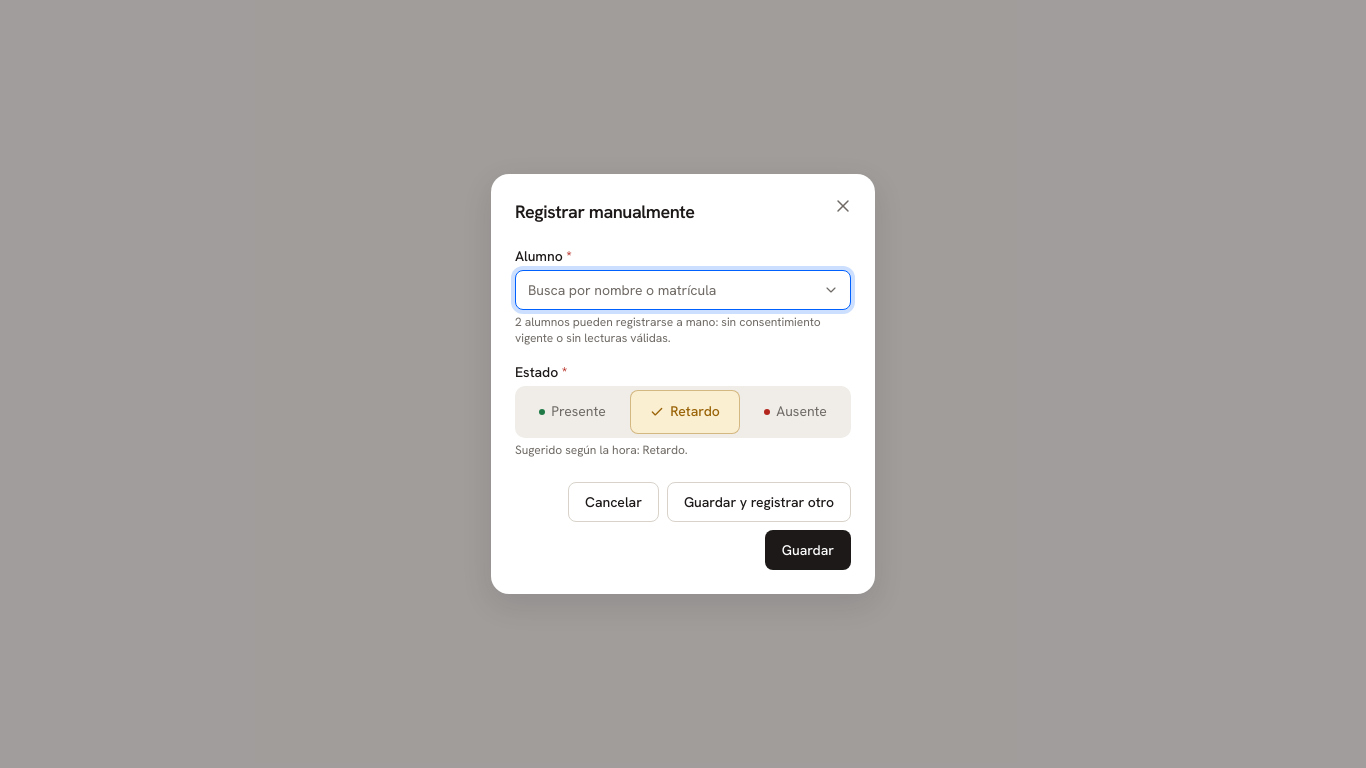
RegistroManualDialog › si el servidor rechaza, el error queda dentro del diálogo y se conserva lo elegido
Click the dropdown labelled "Alumno *" at (683, 290), box [515,270,851,310]
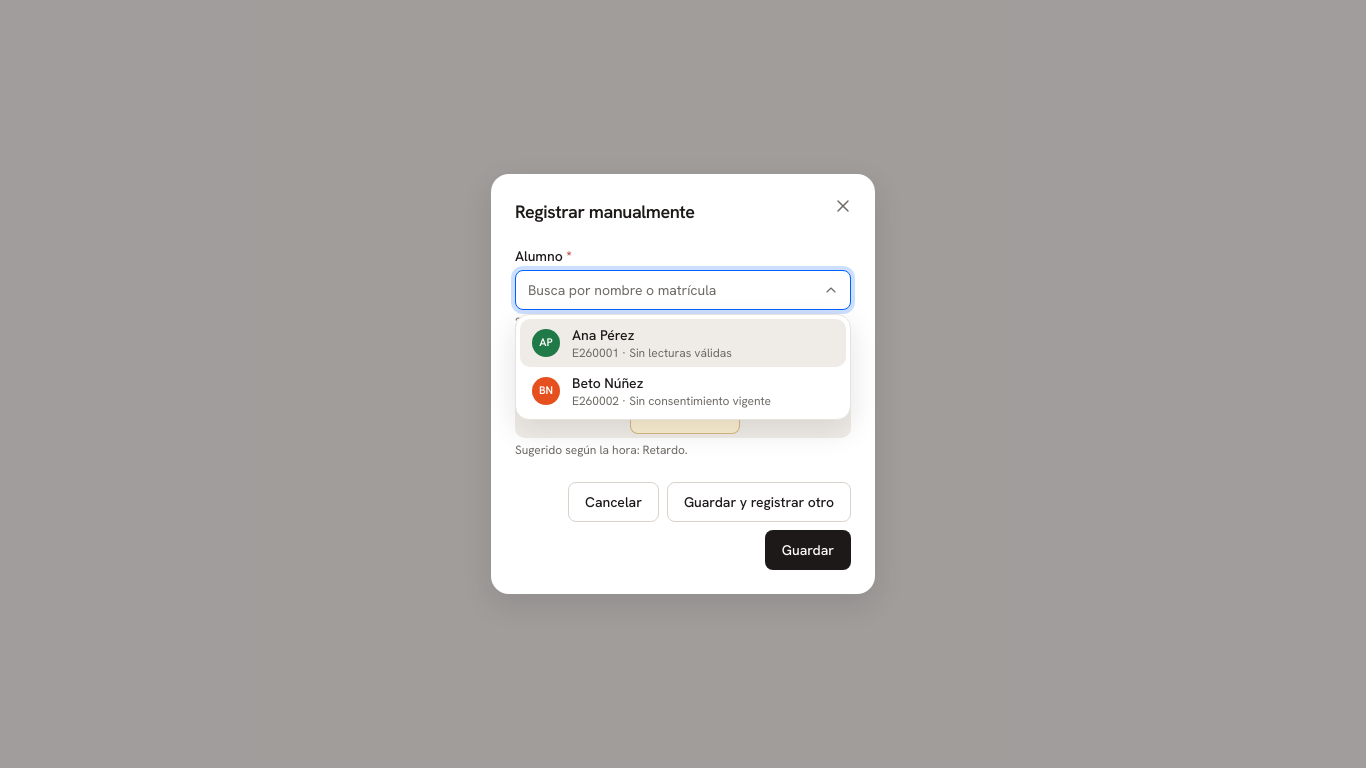
Click the option "AP Ana Pérez E260001 · Sin lecturas válidas" at (683, 343), box [520,319,846,367]
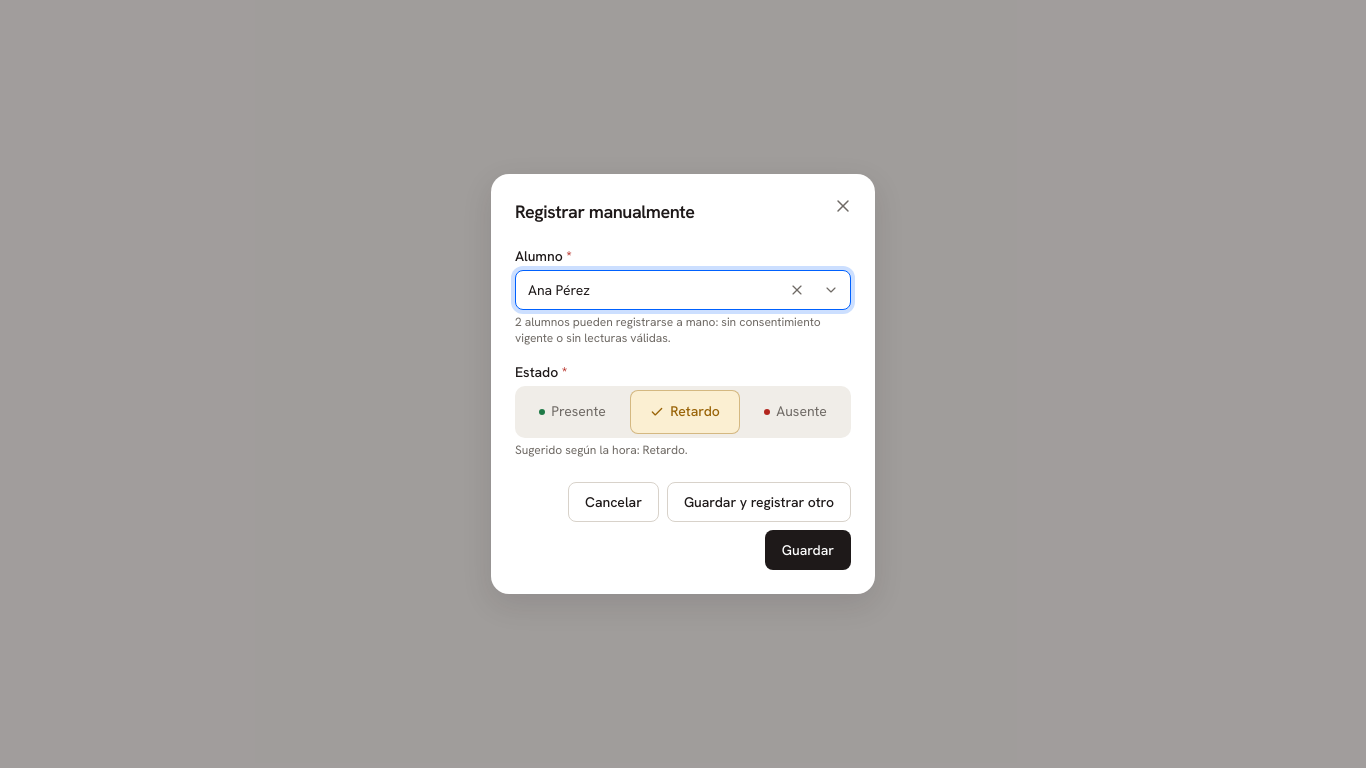
Click the button "Guardar" at (808, 550), box [765,530,851,570]
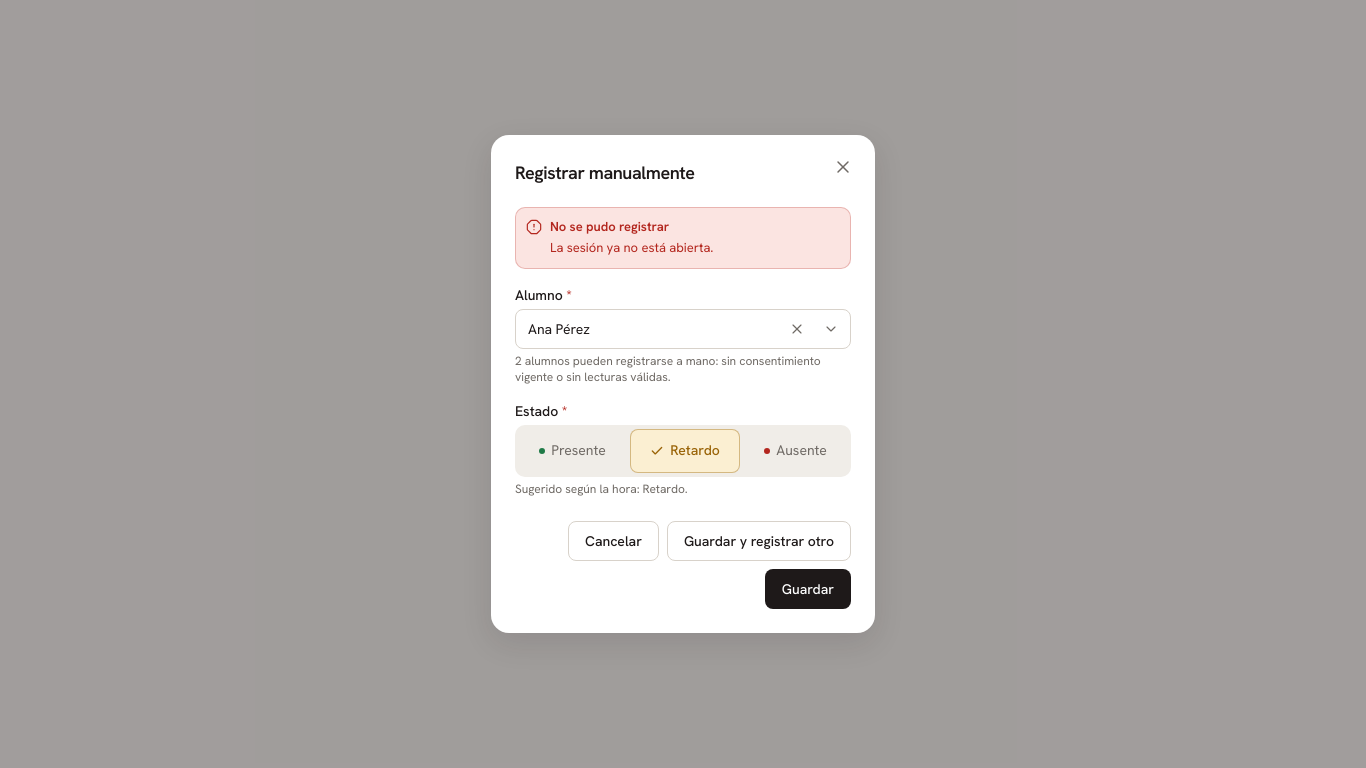
Result: the dropdown labelled "Alumno *" holds "Ana Pérez" at [515,309,851,349]
Result: the text "La sesión ya no está abierta." is shown at [550,239,714,256]
